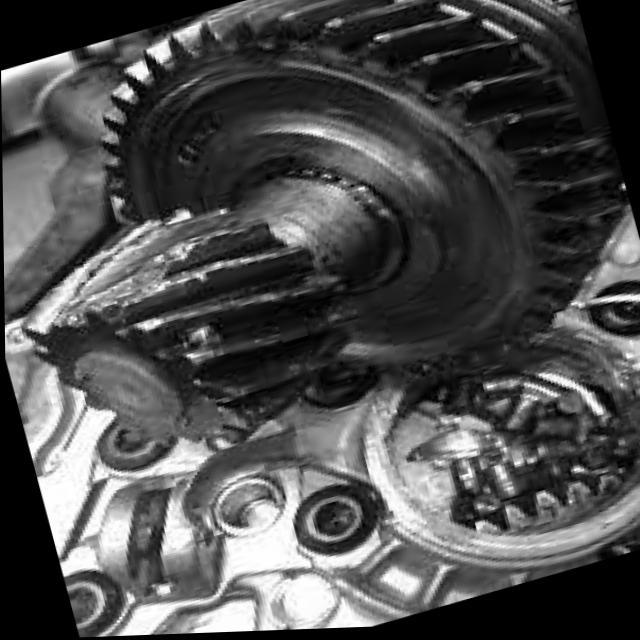Fault-Exist: (9, 144, 352, 498)
